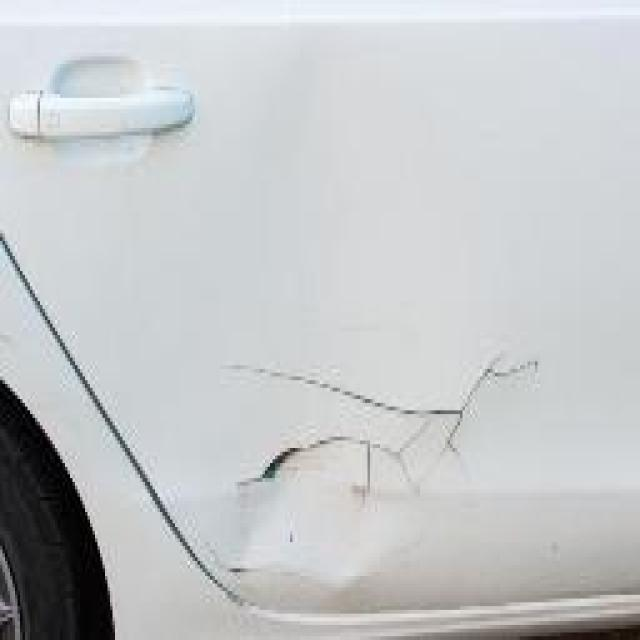Door: (188, 290, 558, 621)
